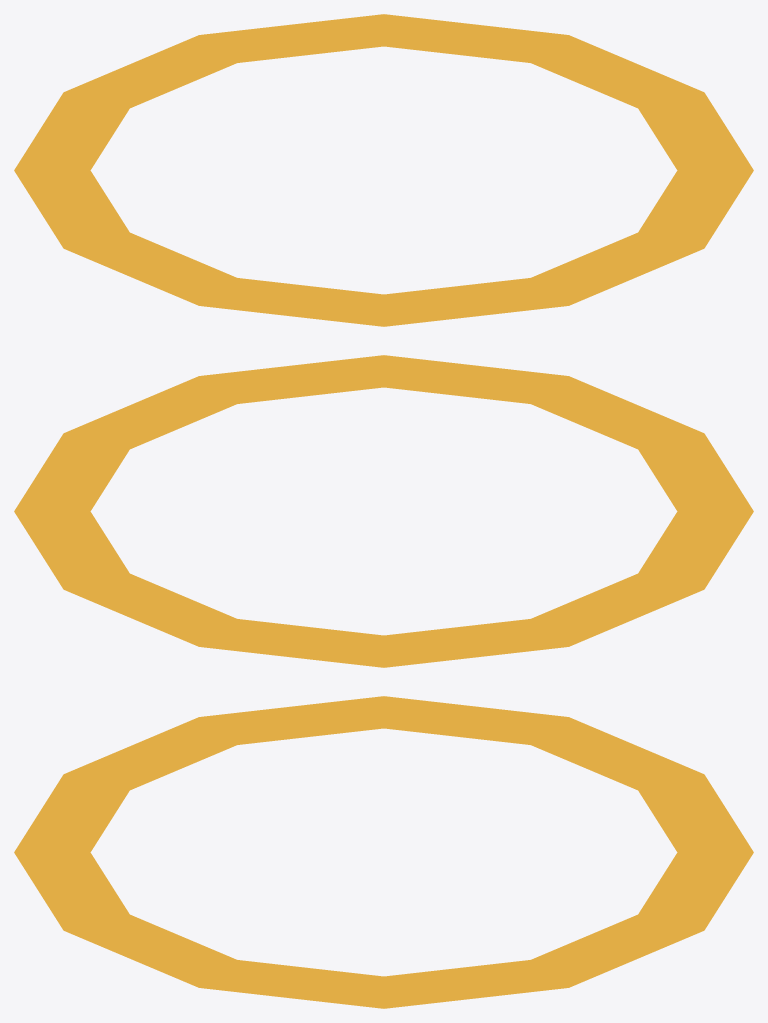
File: indicator-round-b.glb
3 renders of one model, top to bottom at view 1: azimuth 30°, elevation 25°; view 2: azimuth 150°, elevation 25°; view 3: azimuth 270°, elevation 25°, orthographic.
Parts seen in each view (by area): view 1: rotate-y; view 2: rotate-y; view 3: rotate-y.
Boxes of the visible parts, x1,y1,x2,y2 form: rotate-y: (14,14,753,326); rotate-y: (14,355,753,667); rotate-y: (14,696,753,1008).
Size of the model in its own units: 1 by 0 by 1.
1 material, 1 textured.
